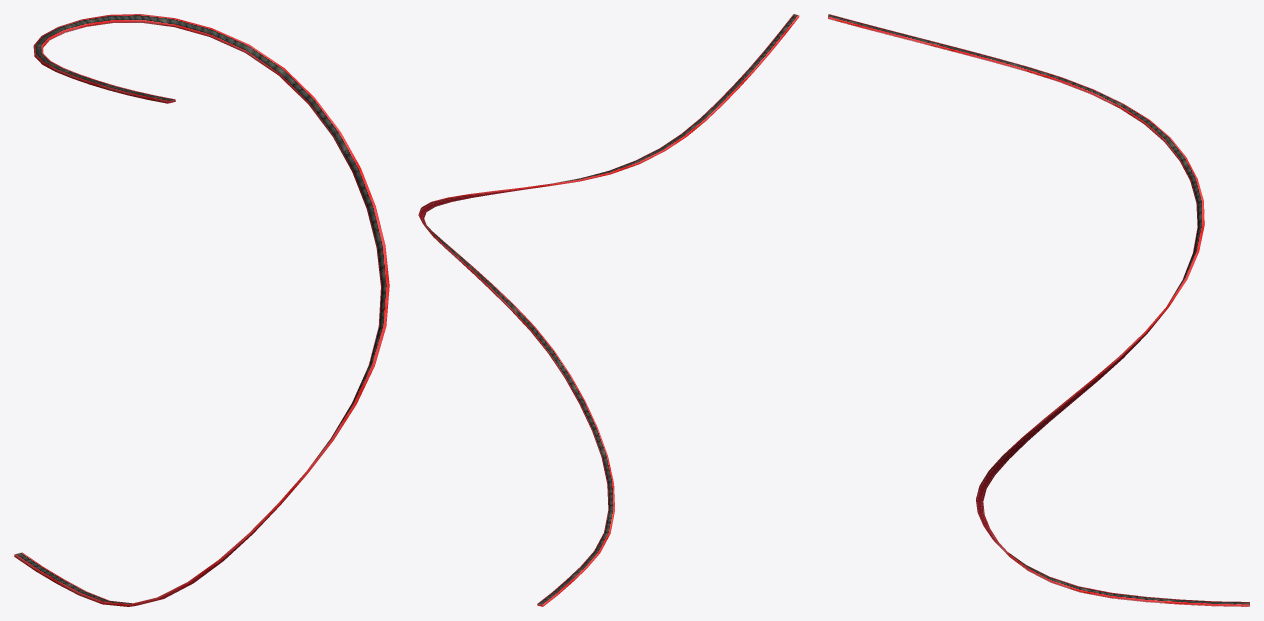
File: Bullet Station 43.fbx
3 views of the same model, side by side, from view 1: azimuth 30°, elevation 25°; view 2: azimuth 150°, elevation 25°; view 3: azimuth 270°, elevation 25° (orthographic). The views are drawn at different scales.
Parts seen in each view (by area): view 1: STG08_ONS_05.001; view 2: STG08_ONS_05.001; view 3: STG08_ONS_05.001.
Part boxes in pixels (bbox=[...]): STG08_ONS_05.001: bbox=[14, 14, 389, 606]; STG08_ONS_05.001: bbox=[418, 14, 799, 606]; STG08_ONS_05.001: bbox=[828, 14, 1249, 606].
Size of the model in its own units: 89365 by 160565 by 111897.
